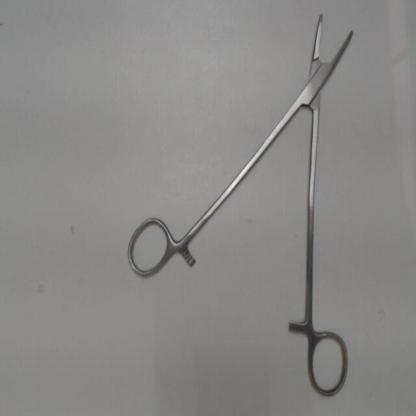8 Mayo Needle Holder: (121, 3, 368, 403)
